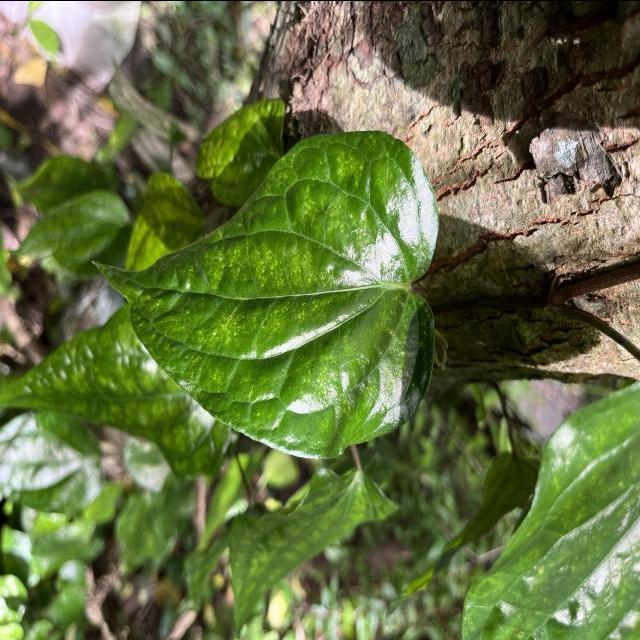Piper betle: (89, 125, 442, 462)
